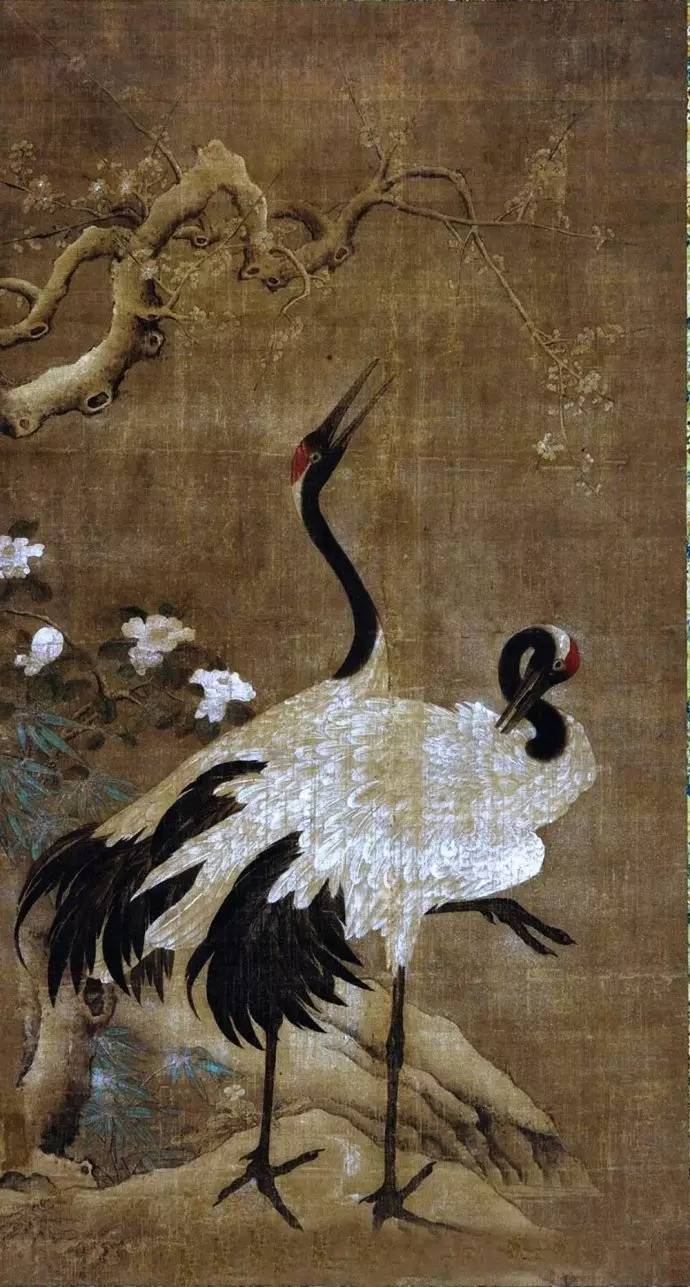crane: (106, 363, 582, 1239)
flower: (1, 528, 256, 721)
tree: (8, 96, 638, 447)
